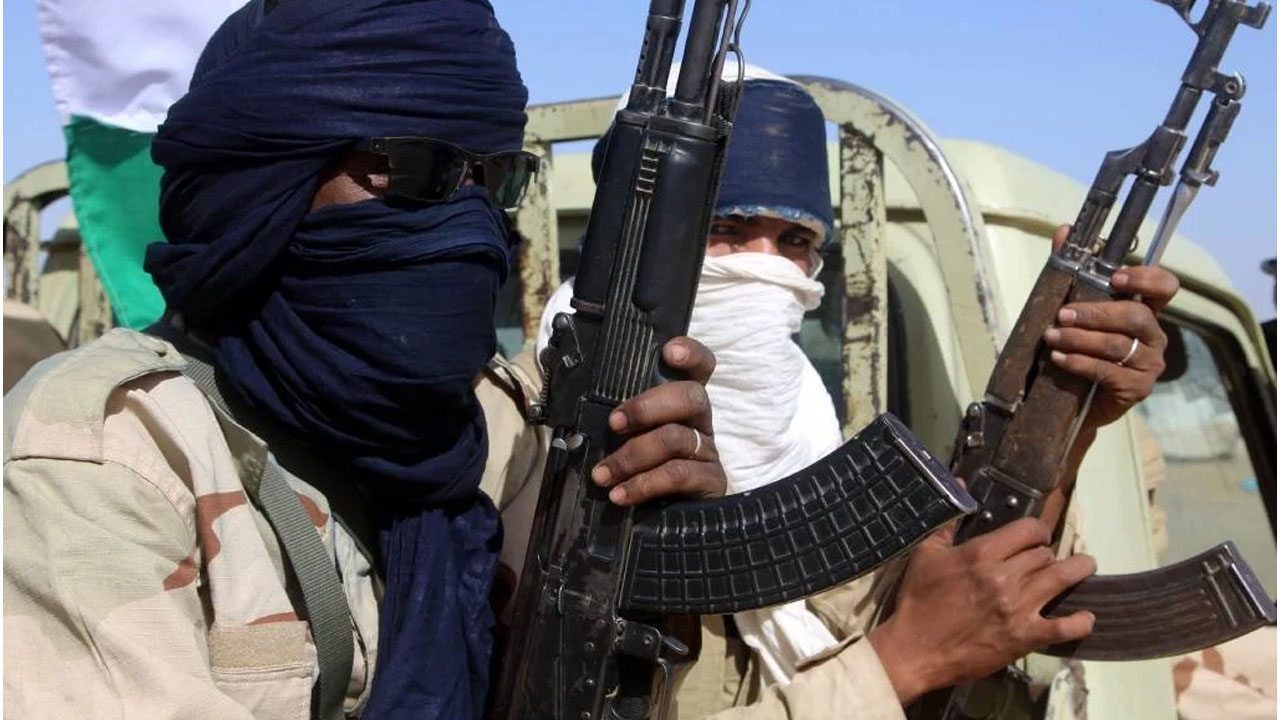bandits: (156, 11, 543, 669), (607, 40, 954, 691)
